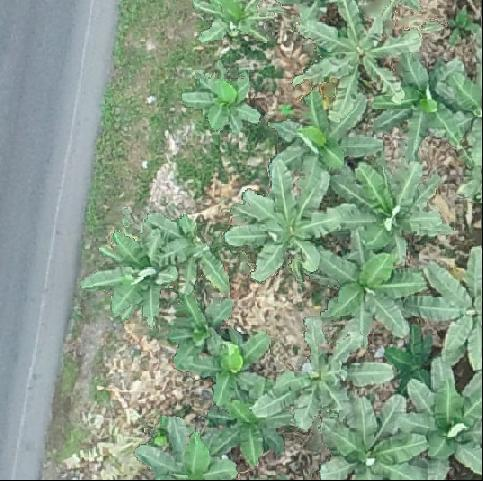Banana-plant: (254, 316, 397, 433), (293, 0, 421, 124), (221, 158, 345, 283), (321, 163, 452, 268), (362, 51, 479, 157), (311, 248, 429, 347), (389, 358, 483, 479), (404, 236, 483, 375), (79, 224, 191, 321), (310, 397, 430, 481), (176, 319, 267, 409), (200, 380, 291, 467), (146, 208, 231, 297), (133, 416, 237, 481), (158, 289, 243, 363), (184, 68, 262, 141), (189, 0, 279, 55), (441, 3, 483, 49)
